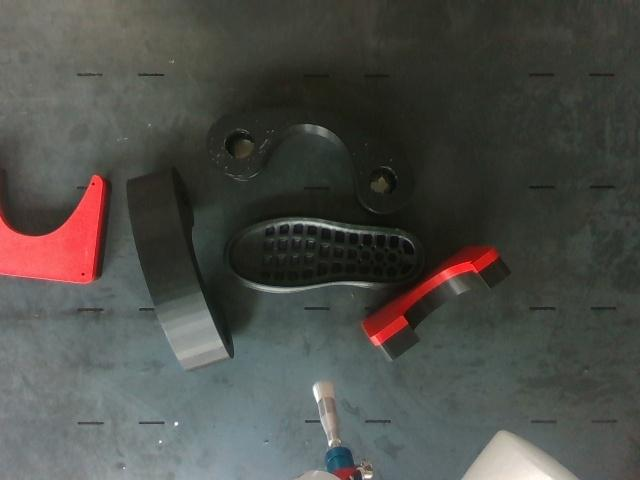shoes: (228, 219, 424, 286)
